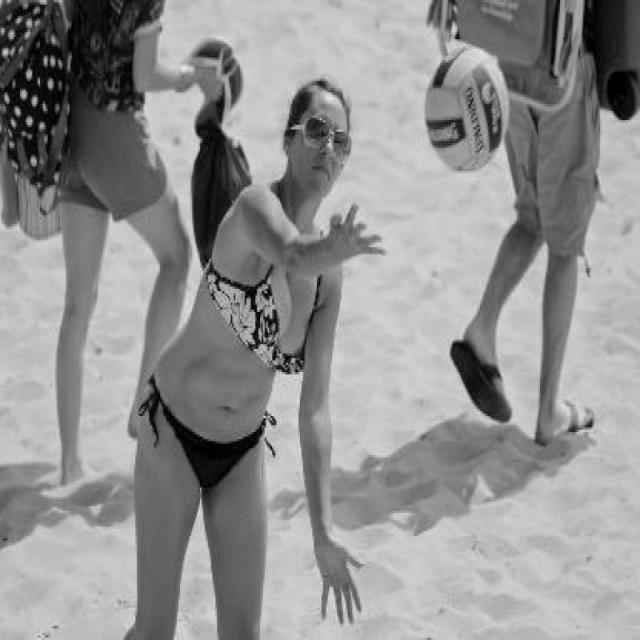volleyball: (420, 44, 510, 171)
